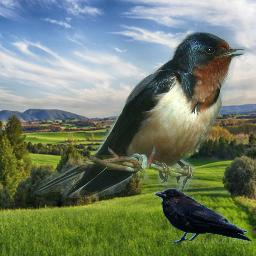Crow: (152, 188, 253, 244)
Swallow: (34, 31, 245, 198)
